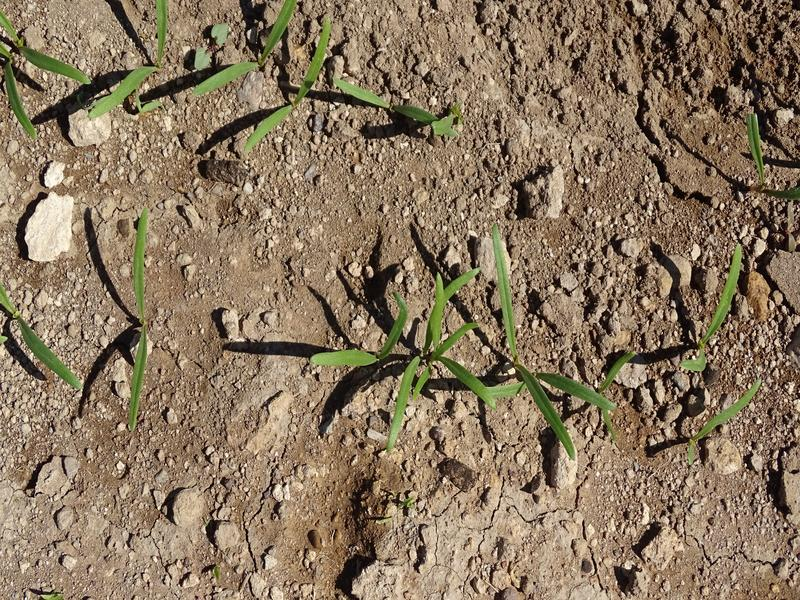Espinaca: (319, 241, 614, 453), (200, 3, 331, 149), (1, 14, 90, 137), (677, 242, 748, 375), (1, 285, 85, 394), (335, 78, 469, 144), (105, 1, 173, 128), (676, 377, 767, 465), (134, 210, 147, 428)
